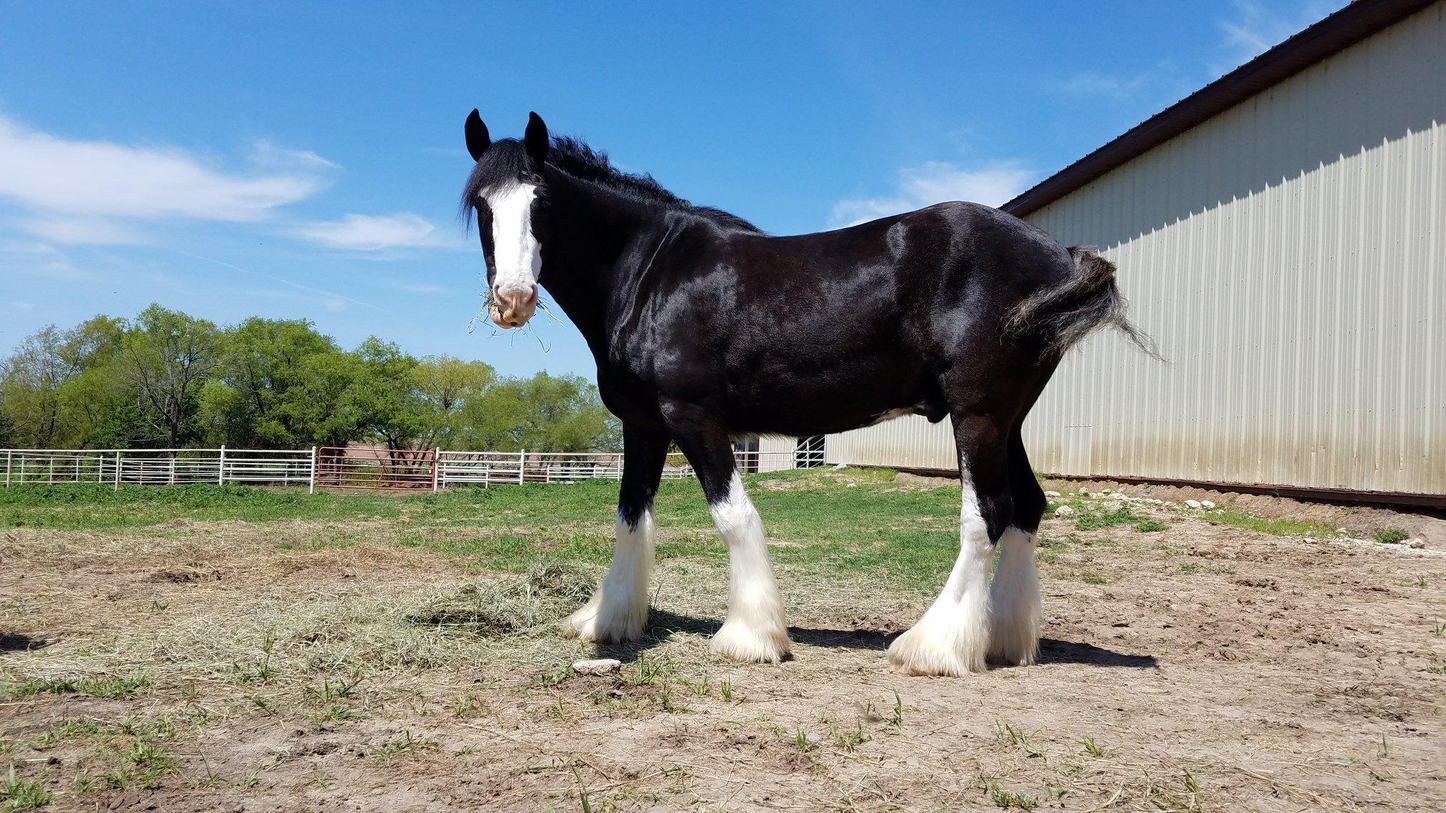horse: (445, 96, 1148, 681)
